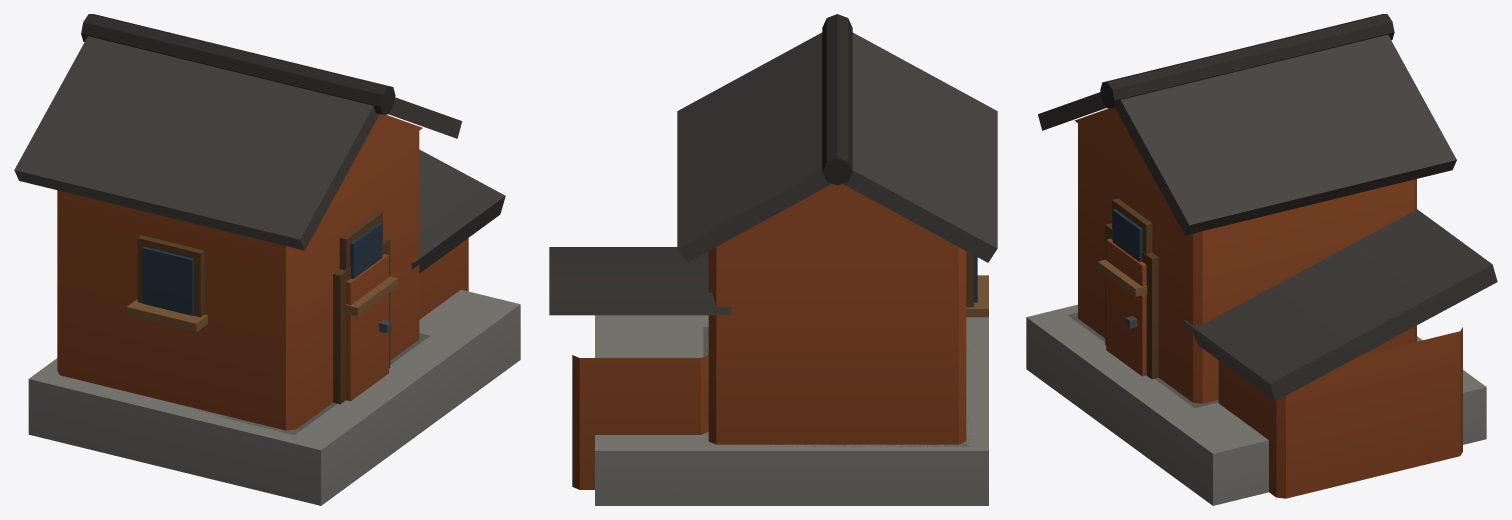
Rendered from building_6.glb.
3 renders of one model, left to right at view 1: azimuth 30°, elevation 25°; view 2: azimuth 150°, elevation 25°; view 3: azimuth 270°, elevation 25°, orthographic. The views are drawn at different scales.
Visible parts, largest first — view 1: building_6; view 2: building_6; view 3: building_6.
Boxes of the visible parts, left/top/right/bottom form: building_6: left=14, top=14, right=520, bottom=505; building_6: left=549, top=14, right=997, bottom=505; building_6: left=1026, top=14, right=1497, bottom=505.
Bounding box in the file's own units: 0.7109 × 0.518 × 0.6563.
